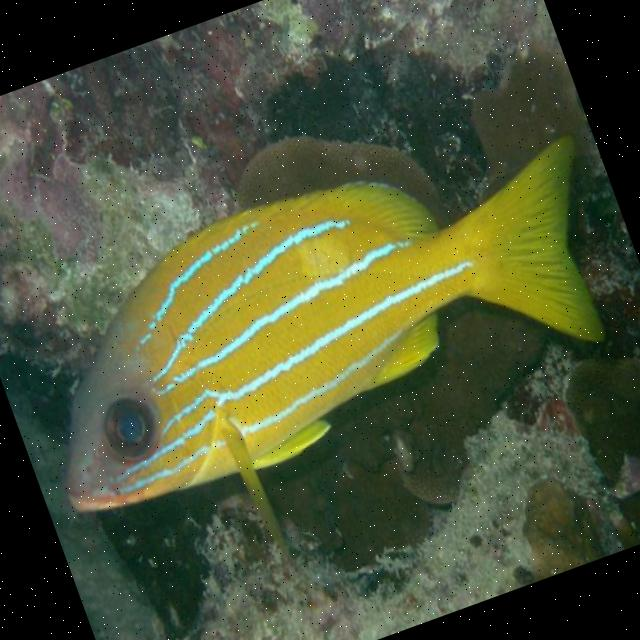ikan: (0, 91, 640, 622)
